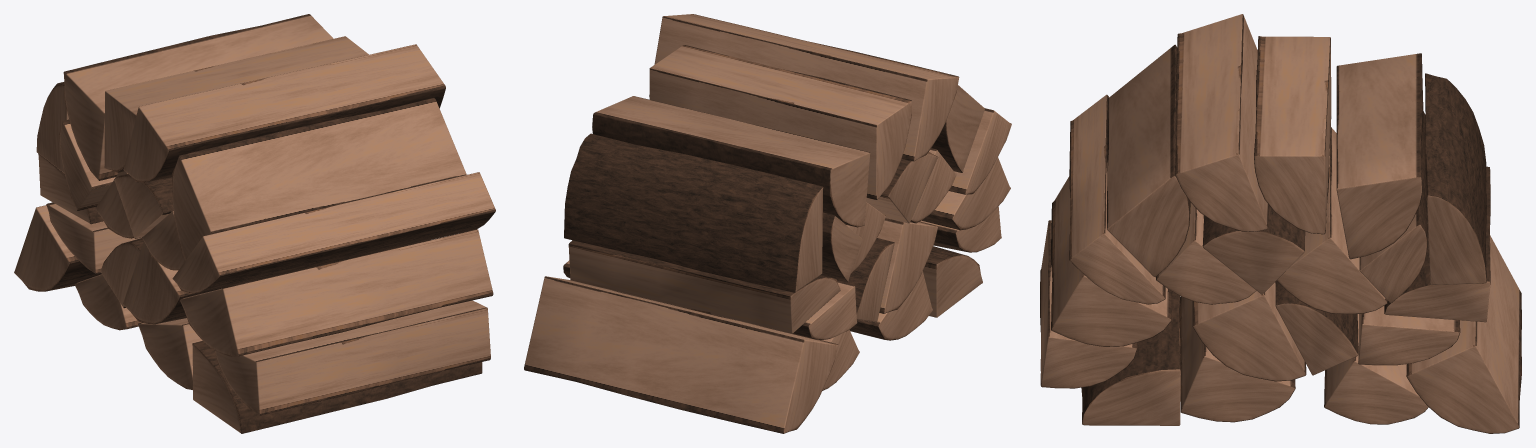
Rendered from maki.obj.
The picture shows the model from 3 angles, left to right: view 1: azimuth 30°, elevation 25°; view 2: azimuth 150°, elevation 25°; view 3: azimuth 270°, elevation 25°; orthographic projection. The views are drawn at different scales.
Parts seen in each view (by area): view 1: maki.022_Cylinder.072, maki.012_Cylinder.013, maki.034_Cylinder.083, maki.016_Cylinder.046, maki.005_Cylinder.005, maki.019_Cylinder.069, maki.024_Cylinder.074, maki.033_Cylinder.055, maki.008_Cylinder.009, maki.006_Cylinder.007, maki.010_Cylinder.011, maki.003_Cylinder.003 (+8 smaller); view 2: maki.008_Cylinder.009, maki.004_Cylinder.004, maki.024_Cylinder.074, maki.019_Cylinder.069, maki.034_Cylinder.083, maki.013_Cylinder.025, maki.006_Cylinder.007, maki.033_Cylinder.055, maki.012_Cylinder.013, maki.016_Cylinder.046, maki.027_Cylinder.077, maki.022_Cylinder.072 (+8 smaller); view 3: maki.034_Cylinder.083, maki.019_Cylinder.069, maki.022_Cylinder.072, maki.024_Cylinder.074, maki.008_Cylinder.009, maki.004_Cylinder.004, maki.016_Cylinder.046, maki.012_Cylinder.013, maki.033_Cylinder.055, maki.006_Cylinder.007, maki.018_Cylinder.068, maki.010_Cylinder.011 (+8 smaller).
Part boxes in pixels (box(x1,y1,x2,y2)): maki.022_Cylinder.072: box(172, 97, 466, 260); maki.012_Cylinder.013: box(180, 229, 493, 356); maki.034_Cylinder.083: box(123, 44, 445, 182); maki.016_Cylinder.046: box(172, 172, 495, 293); maki.005_Cylinder.005: box(215, 300, 490, 415); maki.019_Cylinder.069: box(63, 14, 333, 180); maki.024_Cylinder.074: box(104, 36, 368, 172); maki.033_Cylinder.055: box(192, 341, 482, 433); maki.008_Cylinder.009: box(14, 205, 101, 291); maki.006_Cylinder.007: box(123, 240, 429, 324); maki.010_Cylinder.011: box(138, 318, 202, 389); maki.003_Cylinder.003: box(46, 202, 141, 273); maki.008_Cylinder.009: box(524, 276, 838, 433); maki.004_Cylinder.004: box(564, 133, 823, 292); maki.024_Cylinder.074: box(649, 45, 912, 199); maki.019_Cylinder.069: box(592, 96, 870, 227); maki.034_Cylinder.083: box(649, 14, 959, 161); maki.013_Cylinder.025: box(568, 240, 840, 333); maki.006_Cylinder.007: box(877, 218, 937, 313); maki.033_Cylinder.055: box(923, 246, 982, 317); maki.012_Cylinder.013: box(922, 157, 1010, 230); maki.016_Cylinder.046: box(949, 108, 1011, 194); maki.027_Cylinder.077: box(866, 152, 938, 223); maki.022_Cylinder.072: box(931, 85, 984, 172); maki.034_Cylinder.083: box(1175, 14, 1268, 231); maki.019_Cylinder.069: box(1336, 53, 1423, 259); maki.022_Cylinder.072: box(1107, 44, 1190, 277); maki.024_Cylinder.074: box(1254, 36, 1331, 234); maki.008_Cylinder.009: box(1406, 235, 1521, 433); maki.004_Cylinder.004: box(1425, 73, 1486, 285); maki.016_Cylinder.046: box(1069, 94, 1165, 304); maki.012_Cylinder.013: box(1051, 176, 1171, 346); maki.033_Cylinder.055: box(1081, 291, 1180, 425); maki.006_Cylinder.007: box(1192, 282, 1306, 381); maki.018_Cylinder.068: box(1277, 127, 1387, 313); maki.010_Cylinder.011: box(1179, 296, 1295, 422).
Size of the model in its own units: 15.1 by 13.91 by 21.63.
